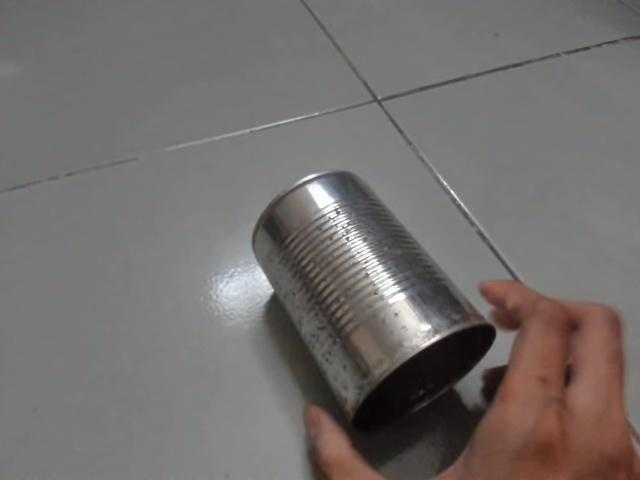anorganik: (242, 160, 505, 444)
